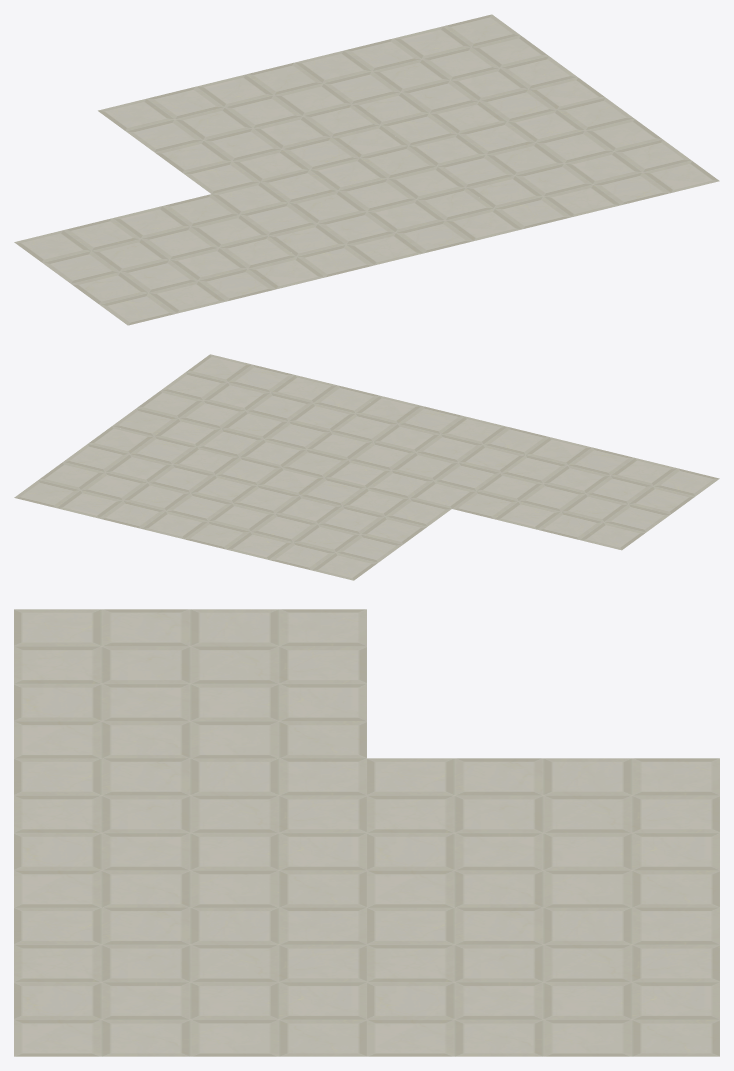
The model's file is Homeworld_Interior_Fd_Room_G_Floor_01_Vo.fbx.
3 renders of one model, top to bottom at view 1: azimuth 30°, elevation 25°; view 2: azimuth 150°, elevation 25°; view 3: azimuth 270°, elevation 25°, orthographic. The views are drawn at different scales.
Visible parts, largest first — view 1: Homeworld_Interior_Fd_Room_Floor_01_Vo (×5); view 2: Homeworld_Interior_Fd_Room_Floor_01_Vo (×5); view 3: Homeworld_Interior_Fd_Room_Floor_01_Vo (×5).
Boxes of the visible parts, box(x1,y1,x2,y2) form: Homeworld_Interior_Fd_Room_Floor_01_Vo (×5): box(14, 14, 719, 325); Homeworld_Interior_Fd_Room_Floor_01_Vo (×5): box(14, 354, 719, 580); Homeworld_Interior_Fd_Room_Floor_01_Vo (×5): box(14, 609, 719, 1056).
Size of the model in its own units: 15 by 1.27e-06 by 10.
